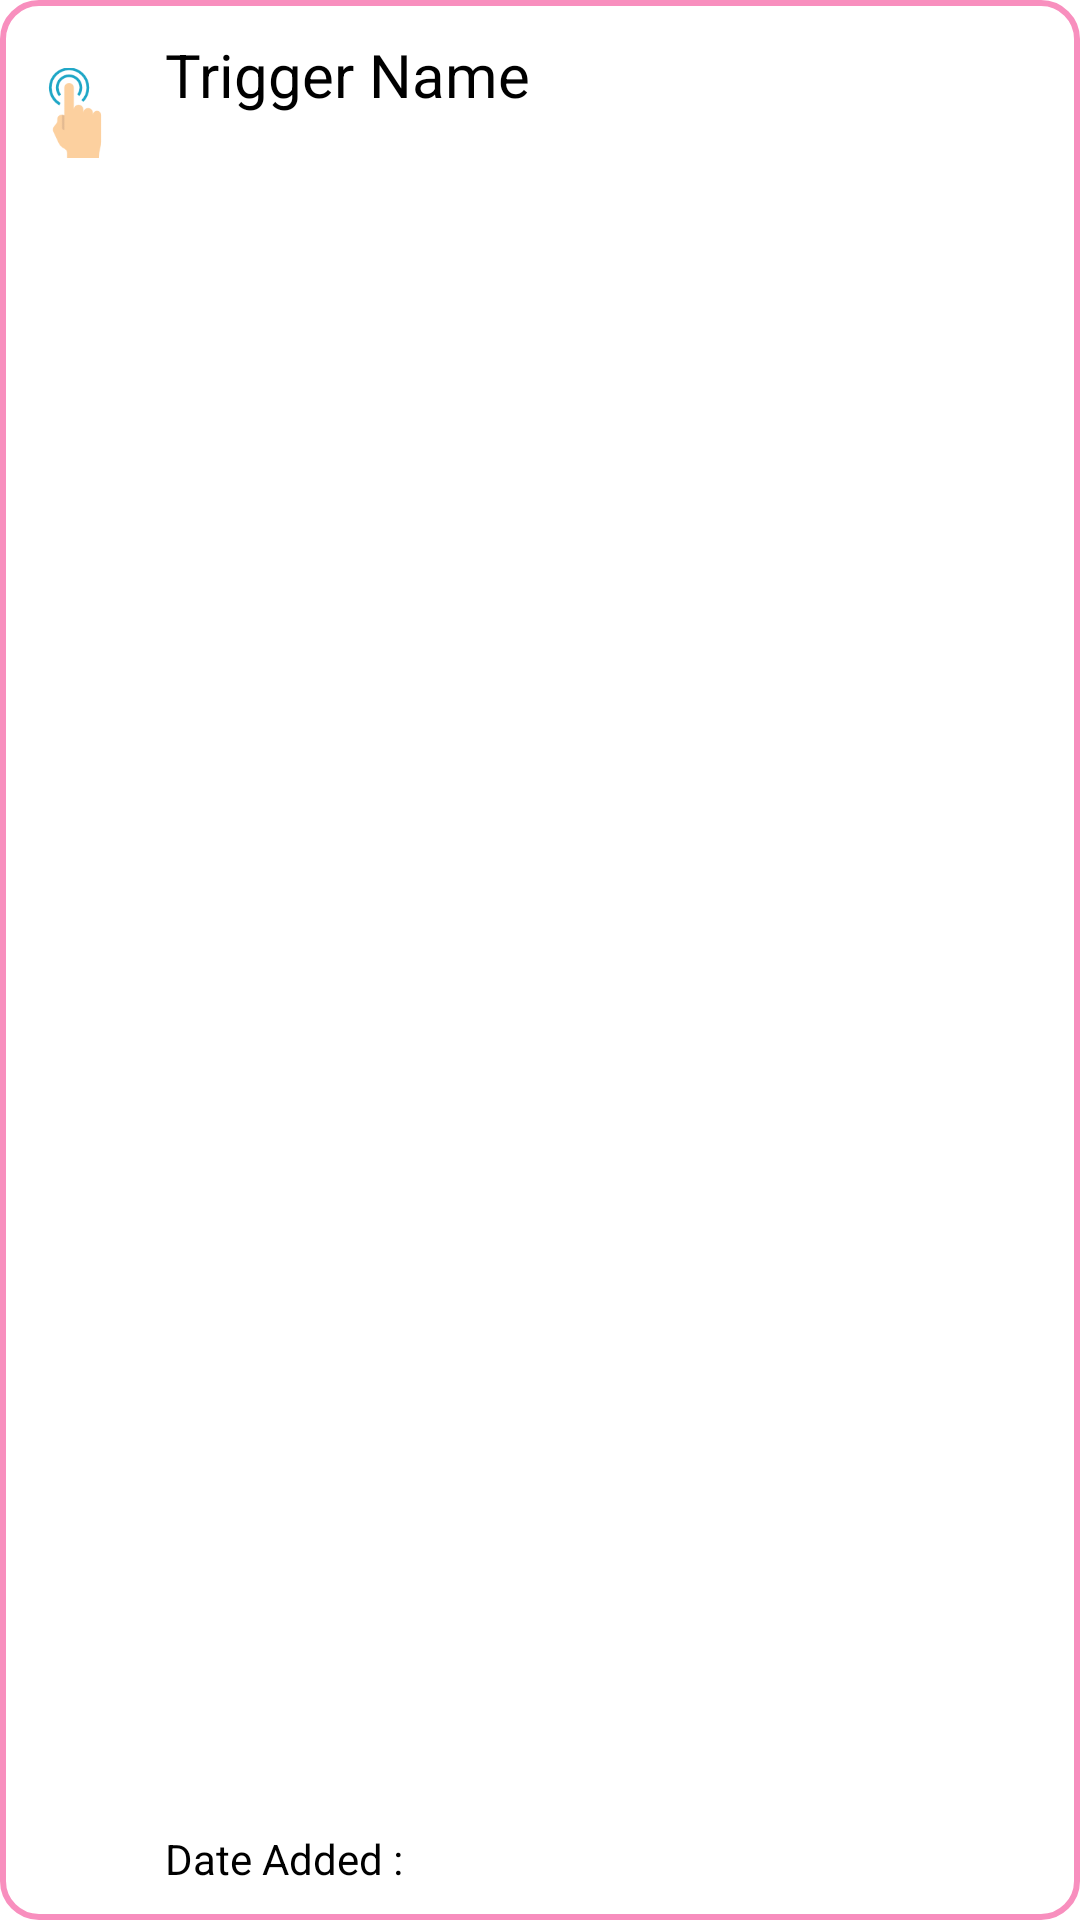

Icons on this 1080 × 1920 Android screen, each with its box as detection(x1, y1, x2, y2):
triggers: detection(49, 68, 101, 158)
